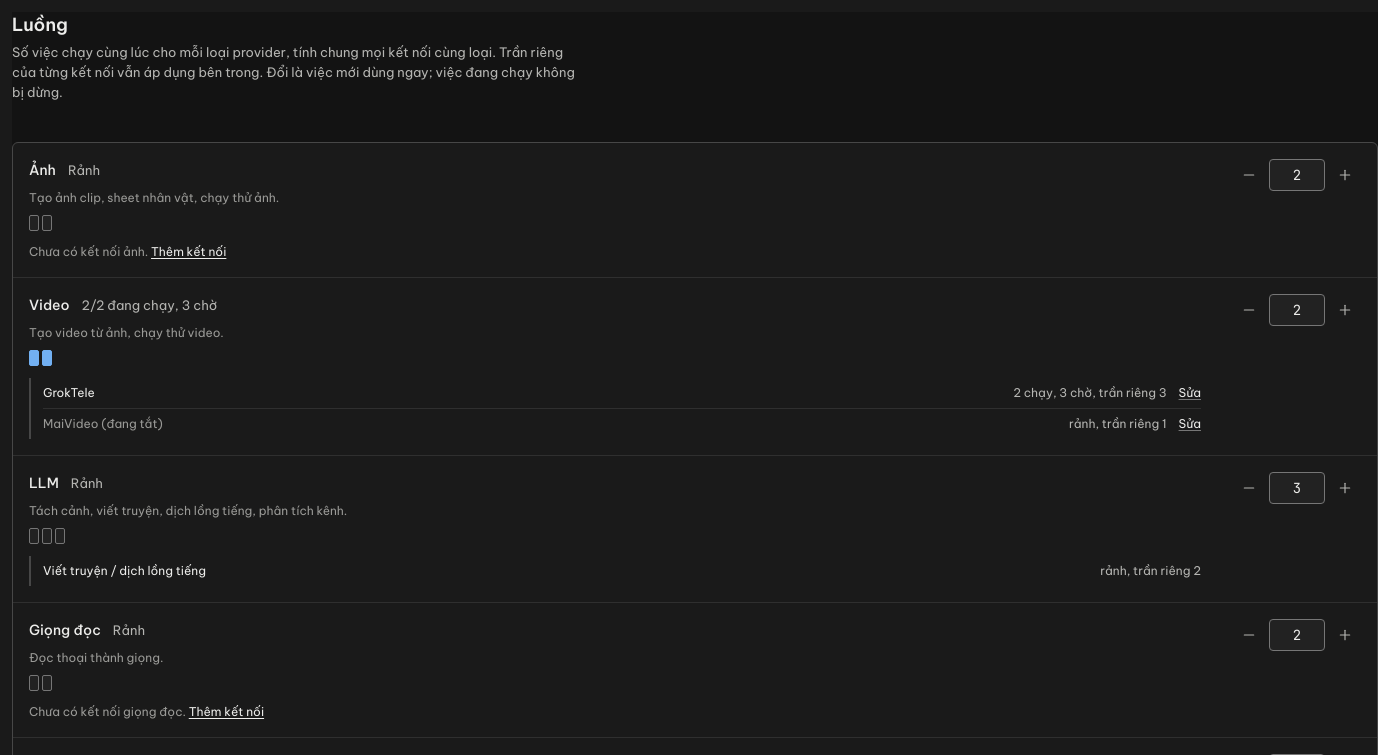
Test: Cài đặt › Luồng › bấm + liên tiếp: hiện ngay, gộp thành một lần ghi, báo đã áp dụng
Step 1. Click the button named "Thêm một luồng Video" → point(1345, 310), box [1329,294,1361,326]
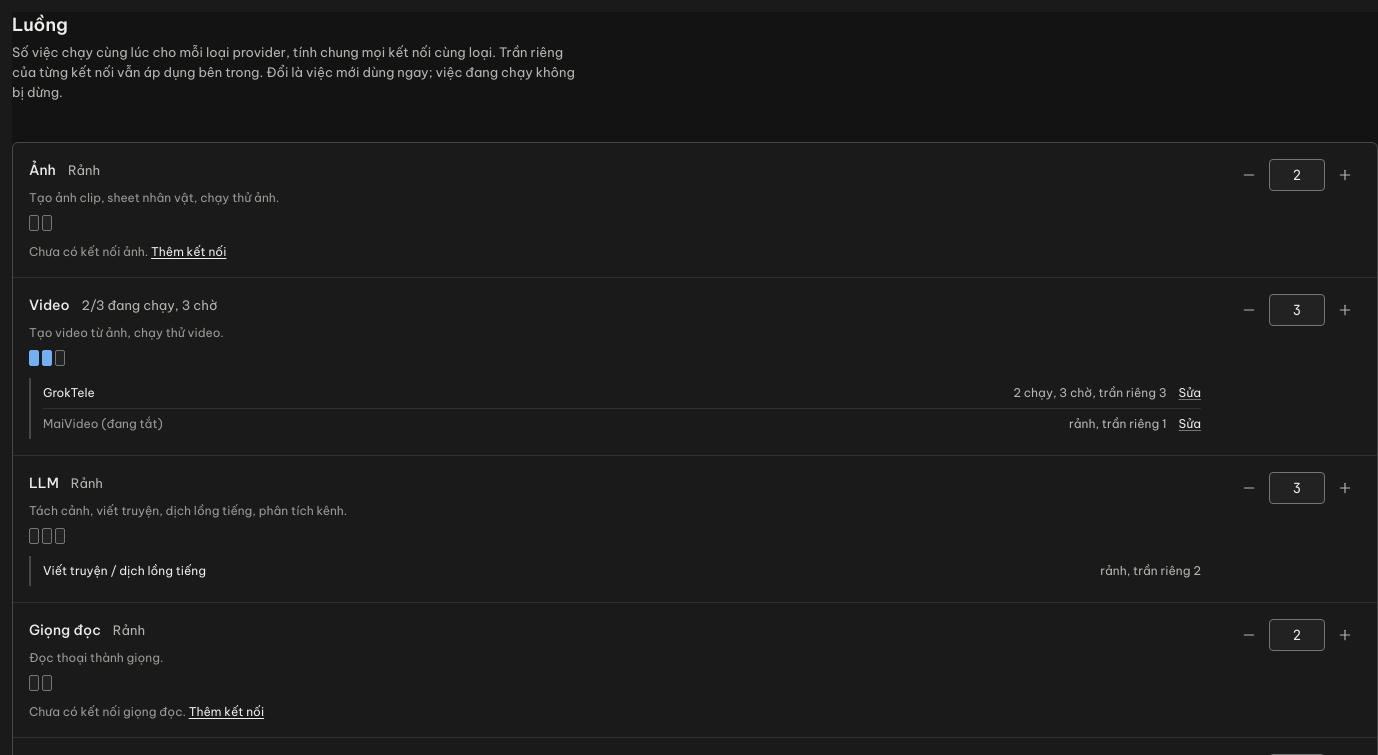
Step 2. Click the button named "Thêm một luồng Video" → point(1345, 310), box [1329,294,1361,326]
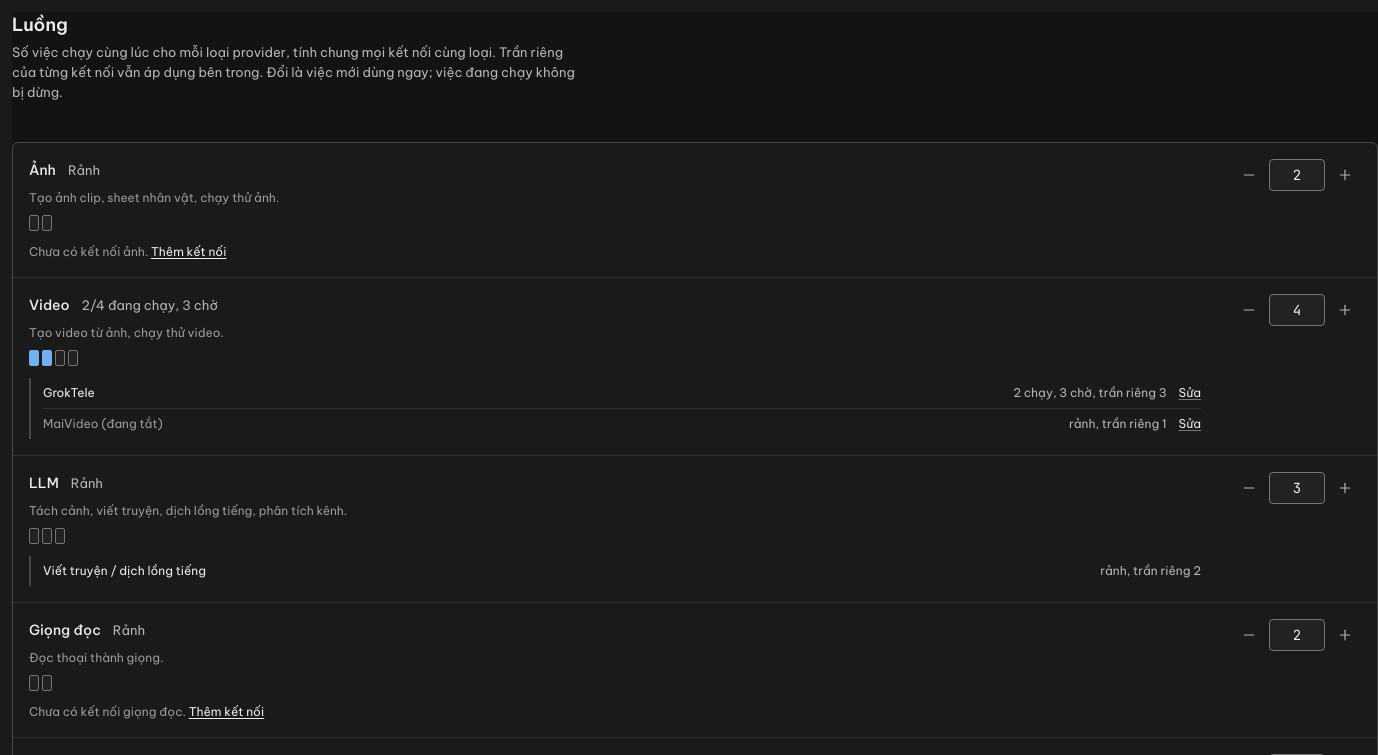
Expected: the number field with id "cc-video" holds "4", [1269,294,1325,326]
